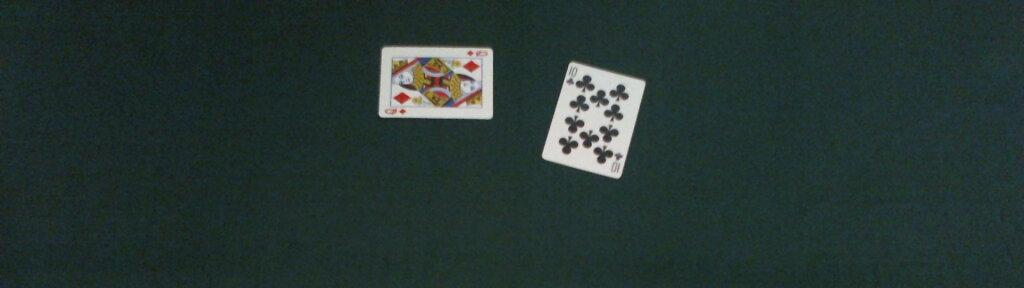queen: (375, 44, 494, 121)
ten: (541, 60, 646, 179)
